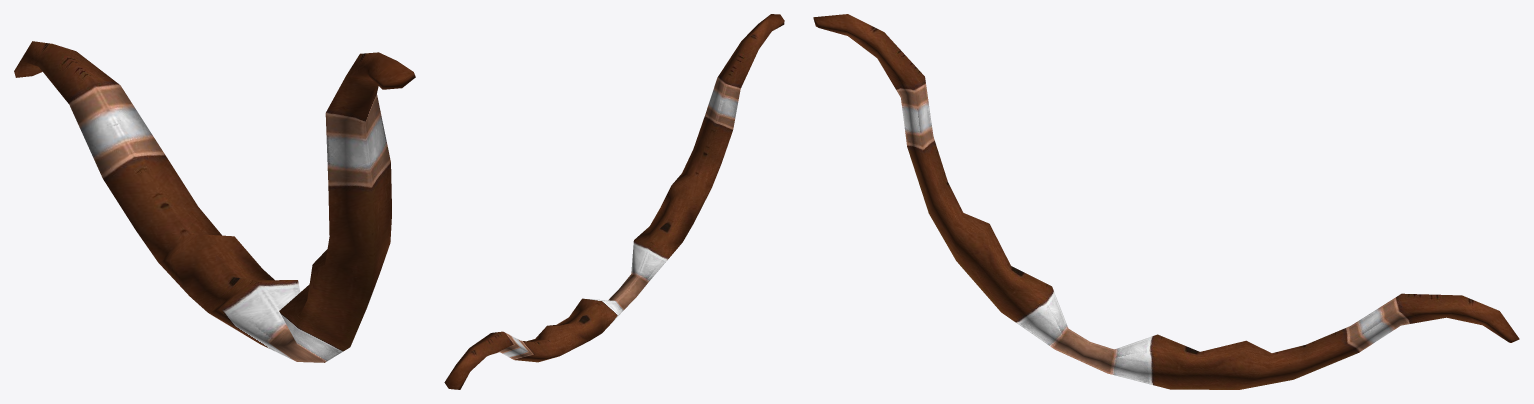
Rendered from bow-base.glb.
3 views of the same model, side by side, from view 1: azimuth 30°, elevation 25°; view 2: azimuth 150°, elevation 25°; view 3: azimuth 270°, elevation 25° (orthographic). The views are drawn at different scales.
Bounding box in the file's own units: 0.2209 × 0.6062 × 1.15.
1 material, 1 textured.
